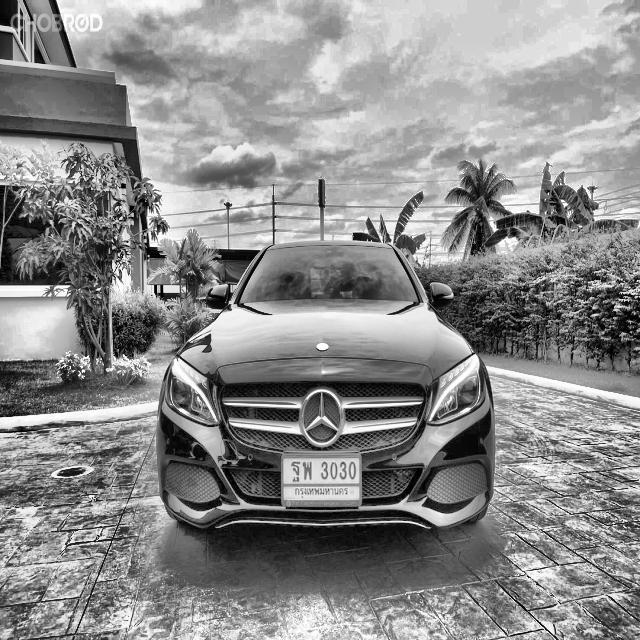license-plate: (282, 449, 362, 508)
